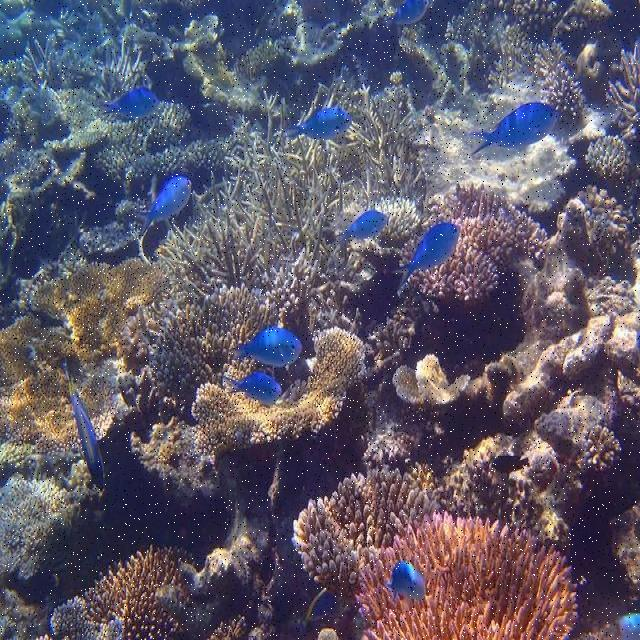fish: (67, 371, 103, 492), (133, 177, 192, 237), (232, 328, 302, 367), (98, 90, 159, 121), (219, 374, 281, 402), (386, 563, 425, 598)
